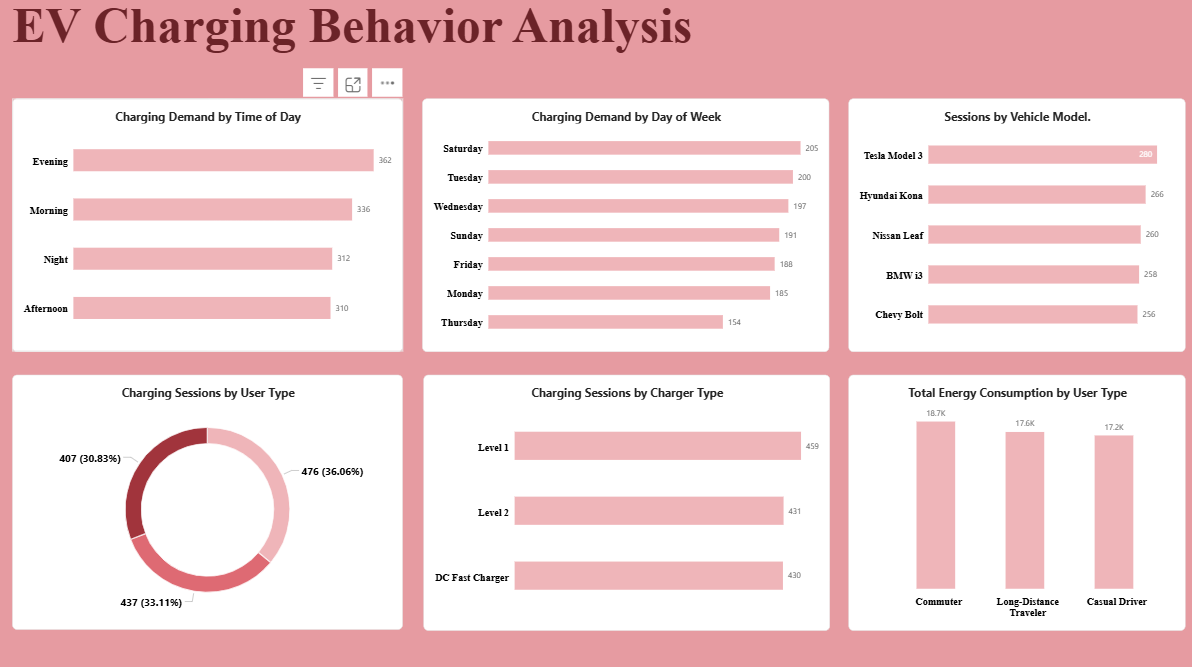

What the dashboard file says about the page in this screenshot:
{"tool":"powerbi","page":{"name":"Charging Behavior Analysis","canvas":[1920,1080],"ordinal":1},"visuals":[{"type":"clusteredBarChart","title":"Charging Demand by Time of Day","fields":{"Category":["ev_charging_patterns.Time of Day"],"Y":["CountNonNull(ev_charging_patterns.User ID)"]},"box":[26.2,164.6,625.1,405.6],"z":0},{"type":"clusteredBarChart","title":"Charging Demand by Day of Week","fields":{"Category":["ev_charging_patterns.Day of Week"],"Y":["CountNonNull(ev_charging_patterns.User ID)"]},"box":[682.4,164.6,651.4,405.6],"z":1000},{"type":"donutChart","title":"Charging Sessions by User Type","fields":{"Category":["ev_charging_patterns.User Type"],"Y":["CountNonNull(ev_charging_patterns.User ID)"]},"box":[26.2,606,625.1,408],"z":2000},{"type":"clusteredBarChart","title":"Charging Sessions by Charger Type","fields":{"Category":["ev_charging_patterns.Charger Type"],"Y":["CountNonNull(ev_charging_patterns.User ID)"]},"box":[683.4,605.1,650.4,409.6],"z":3000},{"type":"clusteredBarChart","title":"Sessions by Vehicle Model.","fields":{"Category":["ev_charging_patterns.Vehicle Model"],"Y":["CountNonNull(ev_charging_patterns.User ID)"]},"box":[1364.7,164.6,539.2,405.6],"z":4000},{"type":"clusteredColumnChart","title":"Total Energy Consumption by User Type","fields":{"Category":["ev_charging_patterns.User Type"],"Y":["Sum(ev_charging_patterns.Energy Consumed (kWh))"]},"box":[1364.7,605.1,539.3,409.6],"z":5000},{"type":"textbox","box":[26.2,0,1851.5,143.2],"z":6000}]}

Visuals, with their boxes in screenshot pixels (x1, y1, x2, y2), scaled from the page's 1920x1080 canvas onto the 1192x667 screenshot:
"Charging Demand by Time of Day" clusteredBarChart: x1=16, y1=102, x2=404, y2=352
"Charging Demand by Day of Week" clusteredBarChart: x1=424, y1=102, x2=828, y2=352
"Charging Sessions by User Type" donutChart: x1=16, y1=374, x2=404, y2=626
"Charging Sessions by Charger Type" clusteredBarChart: x1=424, y1=374, x2=828, y2=627
"Sessions by Vehicle Model." clusteredBarChart: x1=847, y1=102, x2=1182, y2=352
"Total Energy Consumption by User Type" clusteredColumnChart: x1=847, y1=374, x2=1182, y2=627
textbox: x1=16, y1=0, x2=1166, y2=88
